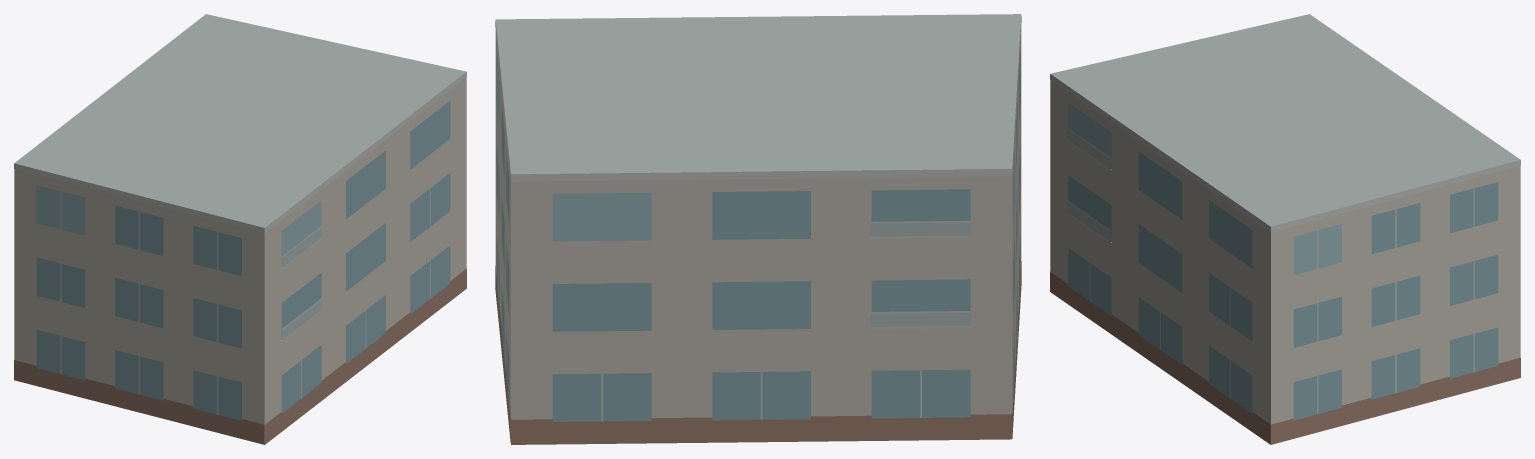
File: survey-upis-32621531.glb
The picture shows the model from 3 angles, left to right: view 1: azimuth 30°, elevation 25°; view 2: azimuth 150°, elevation 25°; view 3: azimuth 270°, elevation 25°; orthographic projection. The views are drawn at different scales.
Parts seen in each view (by area): view 1: survey-upis-32621531.tmp; view 2: survey-upis-32621531.tmp; view 3: survey-upis-32621531.tmp.
Part boxes in pixels (x1,y1,x2,y2): survey-upis-32621531.tmp: (14,14,466,444); survey-upis-32621531.tmp: (495,14,1021,444); survey-upis-32621531.tmp: (1050,14,1520,444).
Bounding box in the file's own units: 19.15 × 9.15 × 17.9.
